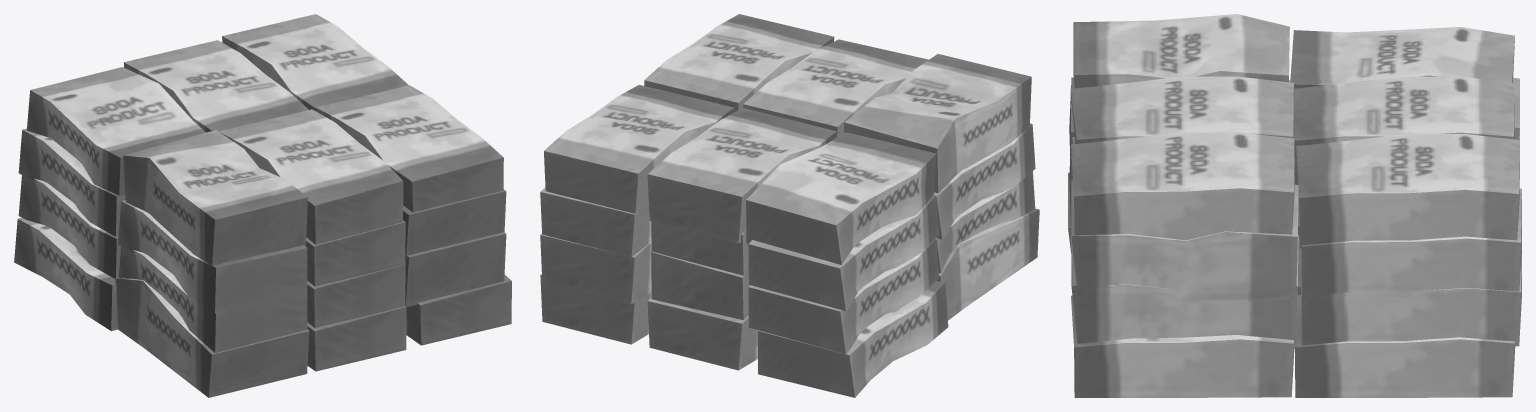
Rendered from Pfb_BagsTile__3.fbx.
3 renders of one model, left to right at view 1: azimuth 30°, elevation 25°; view 2: azimuth 150°, elevation 25°; view 3: azimuth 270°, elevation 25°, orthographic. The views are drawn at different scales.
Parts seen in each view (by area): view 1: Mat_Bags_01_5; view 2: Mat_Bags_01_5; view 3: Mat_Bags_01_5.
Part boxes in pixels (x1,y1,x2,y2): Mat_Bags_01_5: (14, 14, 511, 397); Mat_Bags_01_5: (540, 14, 1039, 397); Mat_Bags_01_5: (1068, 14, 1521, 397).
Size of the model in its own units: 1.73 by 0.9937 by 1.88.
1 material, 1 textured.
